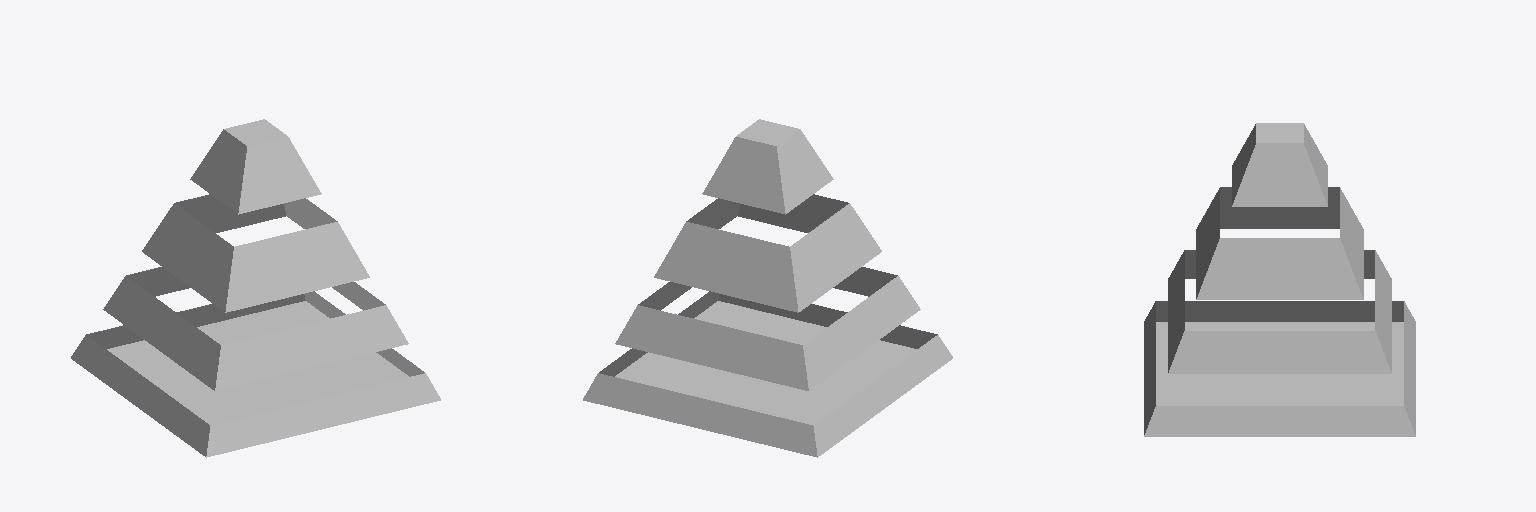
The model's file is Trinagle.obj.
The picture shows the model from 3 angles: view 1: azimuth 30°, elevation 25°; view 2: azimuth 150°, elevation 25°; view 3: azimuth 270°, elevation 25°; orthographic projection.
Parts seen in each view (by area): view 1: Cube; view 2: Cube; view 3: Cube.
Boxes of the visible parts, x1,y1,x2,y2 form: Cube: [71, 119, 440, 457]; Cube: [583, 119, 952, 457]; Cube: [1144, 123, 1415, 436].
Size of the model in its own units: 2 by 2 by 2.